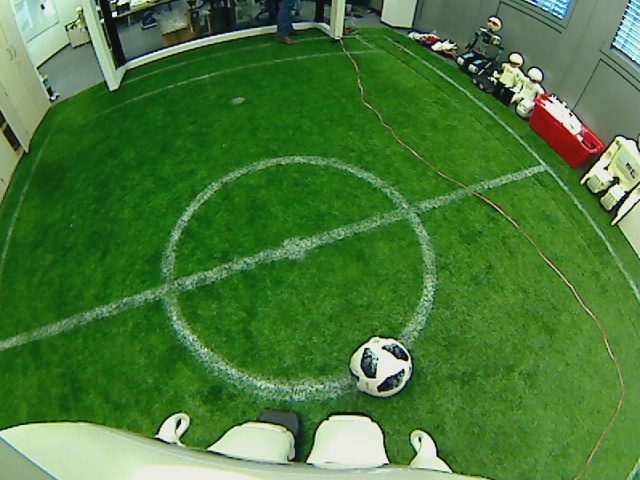ball: (349, 335, 411, 398)
